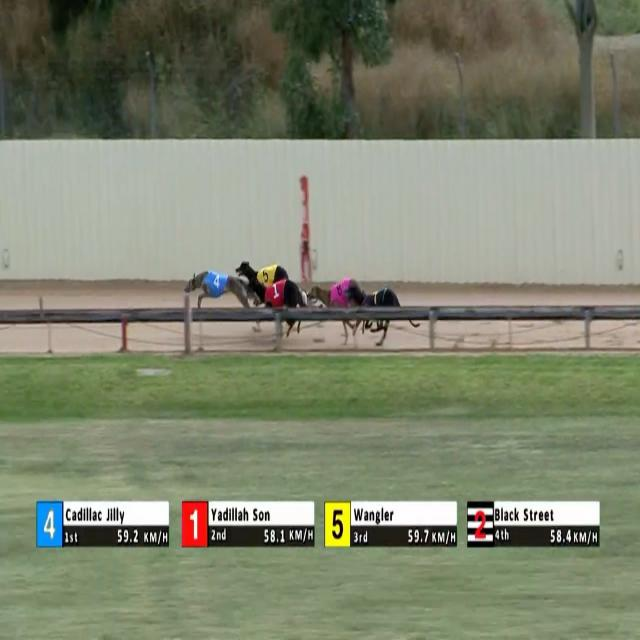dog_eight: (332, 281, 345, 306)
dog_five: (257, 264, 274, 286)
dog_four: (208, 270, 226, 298)
dog_one: (269, 282, 283, 306)
dog_seven: (366, 286, 381, 307)
